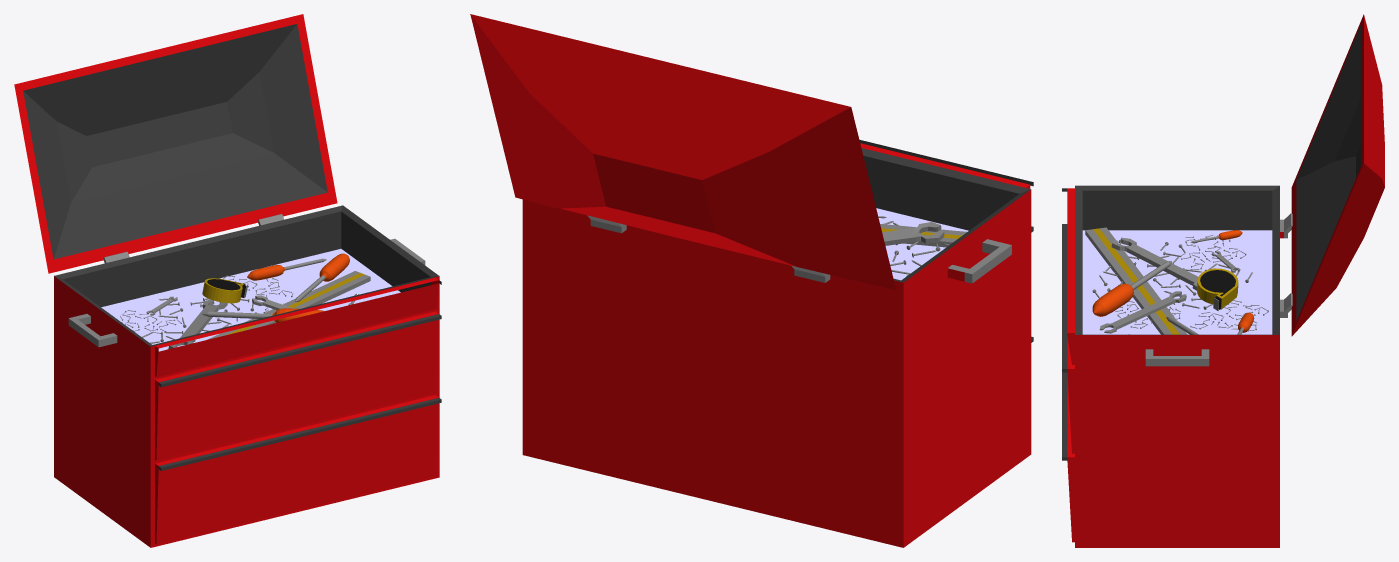
Rendered from toolkit.fbx.
3 views of the same model, side by side, from view 1: azimuth 30°, elevation 25°; view 2: azimuth 150°, elevation 25°; view 3: azimuth 270°, elevation 25° (orthographic). The views are drawn at different scales.
Visible parts, largest first — view 1: Screws; view 2: Screws; view 3: Screws.
Boxes of the visible parts, left/top/right/bottom form: Screws: left=14, top=14, right=441, bottom=547; Screws: left=470, top=14, right=1033, bottom=547; Screws: left=1062, top=14, right=1384, bottom=547.
Size of the model in its own units: 110 by 117 by 88.73.
